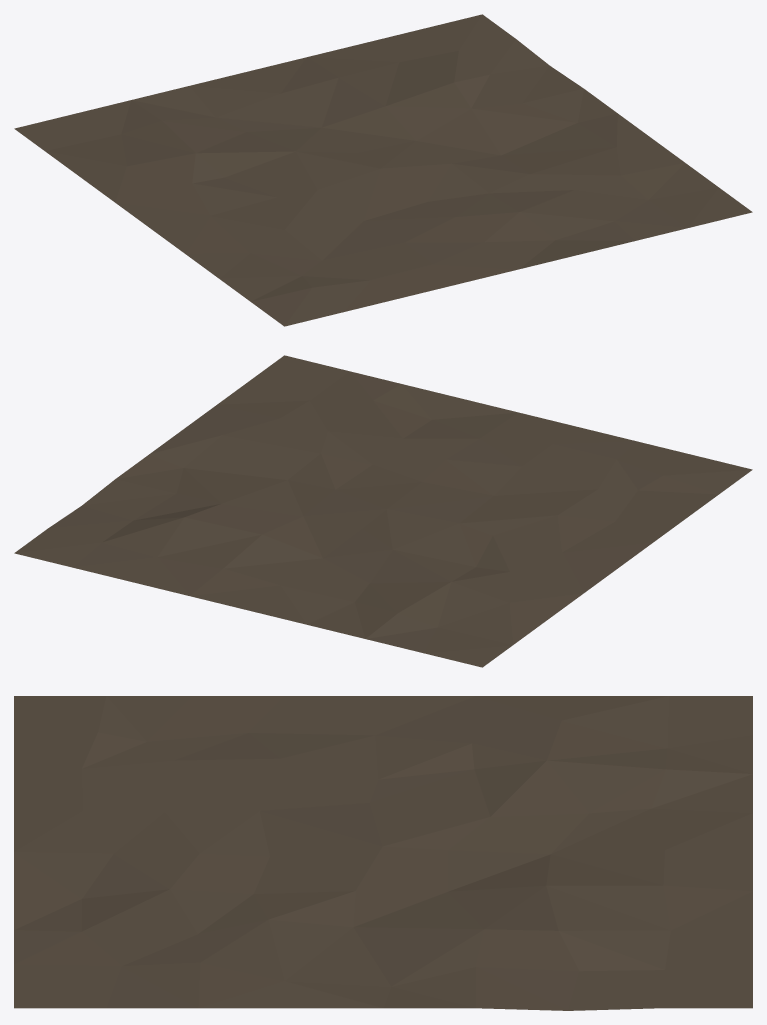
File: crypt_dirt_flat.gltf
The picture shows the model from 3 angles, top to bottom: view 1: azimuth 30°, elevation 25°; view 2: azimuth 150°, elevation 25°; view 3: azimuth 270°, elevation 25°; orthographic projection. The views are drawn at different scales.
Parts seen in each view (by area): view 1: crypt_dirt_flat; view 2: crypt_dirt_flat; view 3: crypt_dirt_flat.
Part boxes in pixels (x1,y1,x2,y2): crypt_dirt_flat: [14, 14, 752, 326]; crypt_dirt_flat: [14, 355, 752, 667]; crypt_dirt_flat: [14, 696, 752, 1010].
Bounding box in the file's own units: 5 × 0.1247 × 5.
Materials: 1 (1 with a texture image).
